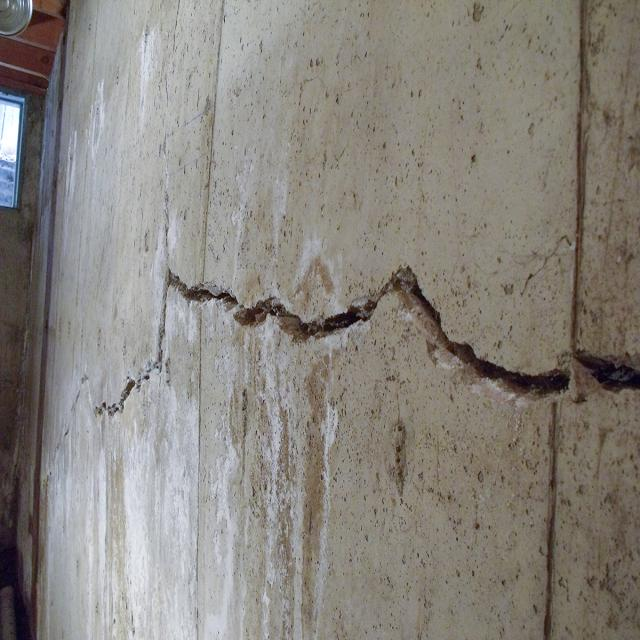Wall_Cracks: (40, 138, 640, 522)
